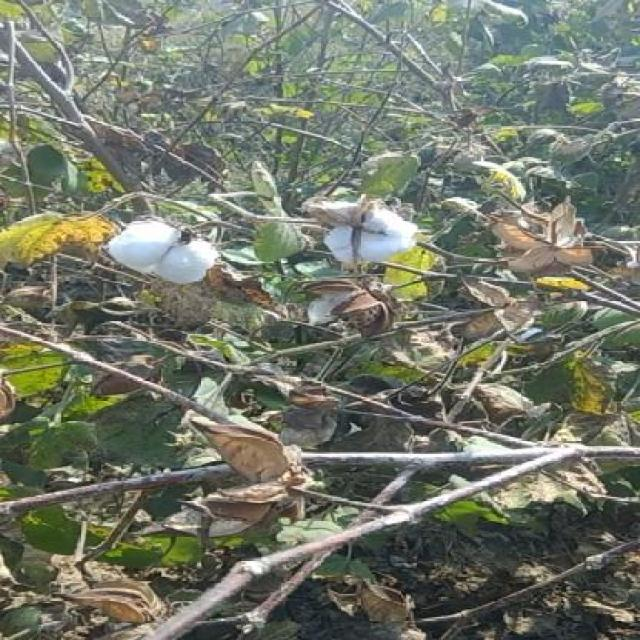cotton_ready: (290, 178, 456, 280), (100, 210, 222, 298)
